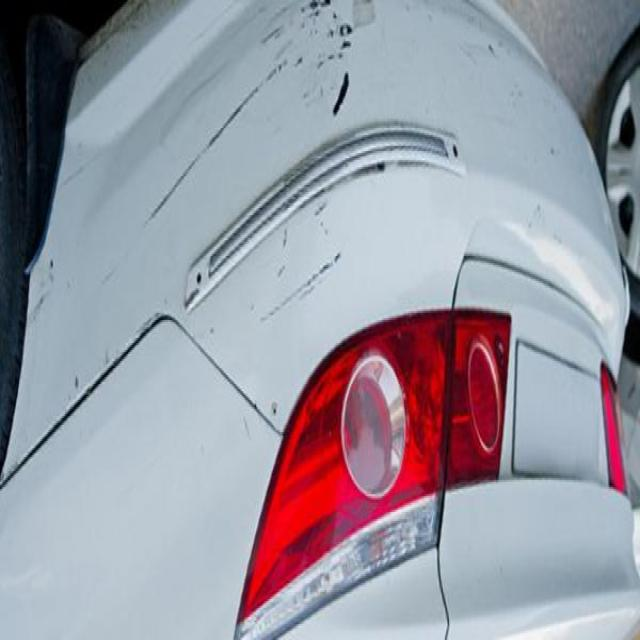scratch: (150, 48, 294, 236), (249, 241, 349, 344)
